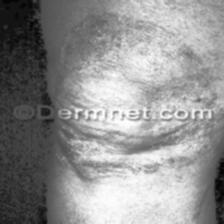Toxin: (56, 22, 205, 180)
